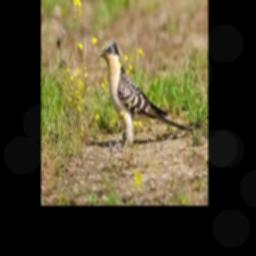Cuckoo: (99, 40, 192, 147)
